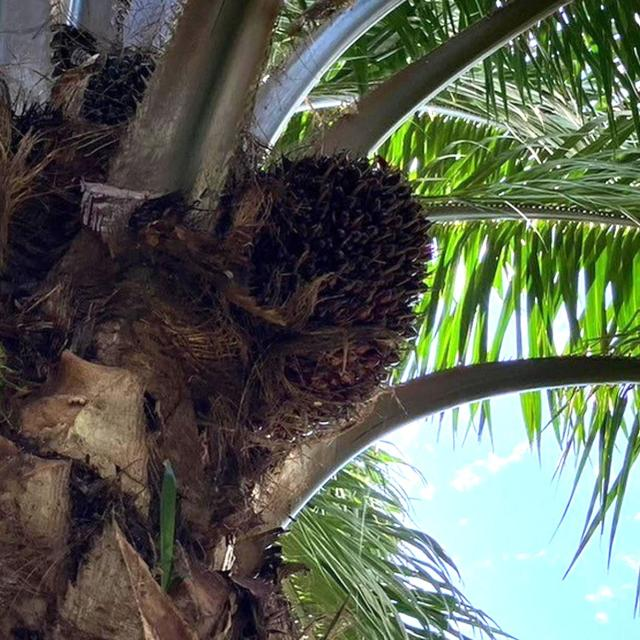ripe: (254, 153, 435, 409)
